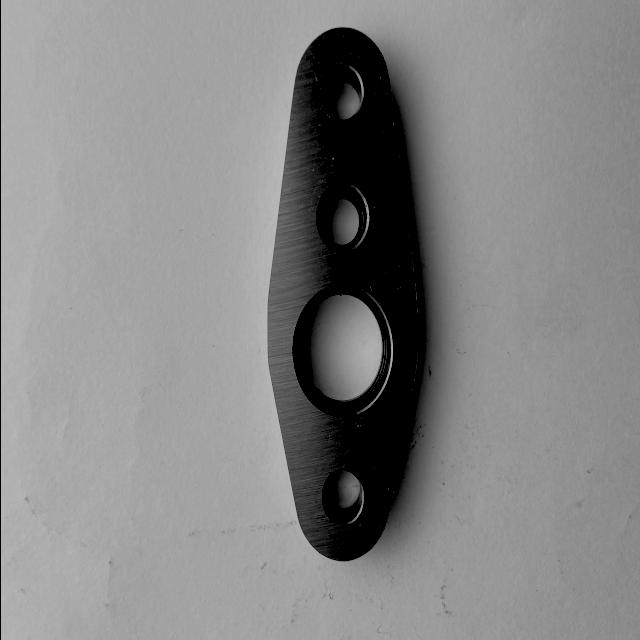chap: (374, 73, 386, 87), (367, 283, 372, 293), (330, 156, 336, 163)
